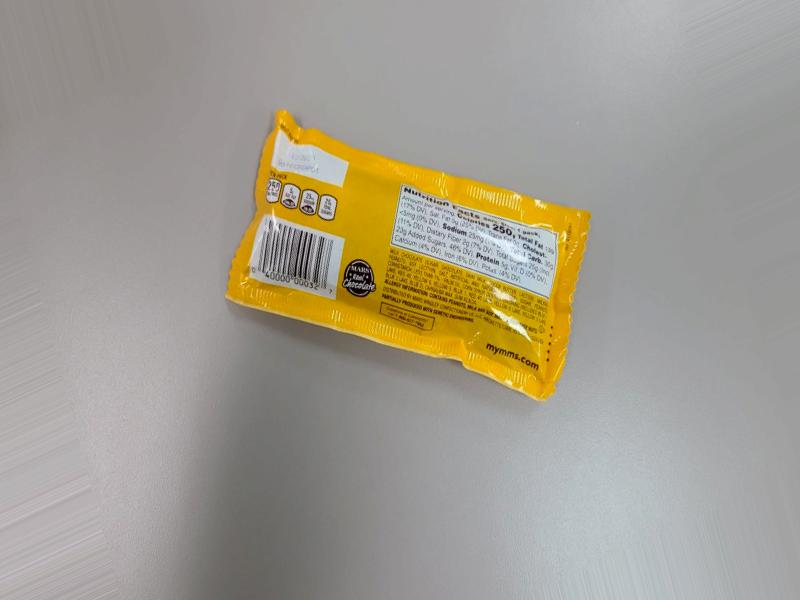m&m: (224, 119, 583, 400)
